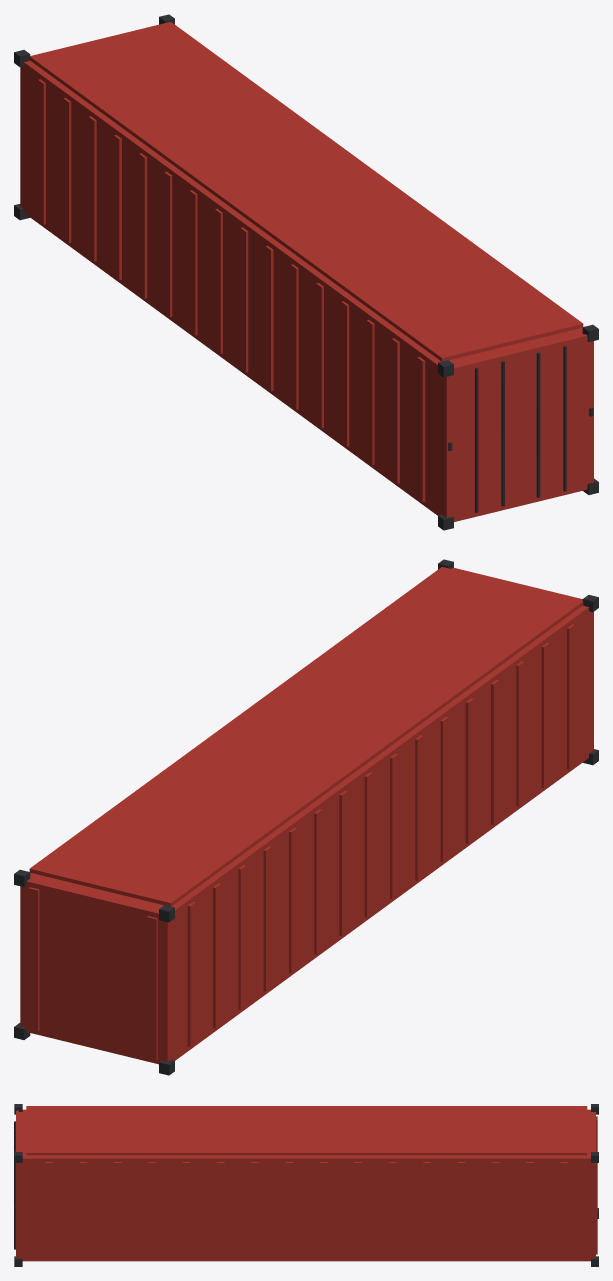
File: container_40ft.glb
The picture shows the model from 3 angles, top to bottom: view 1: azimuth 30°, elevation 25°; view 2: azimuth 150°, elevation 25°; view 3: azimuth 270°, elevation 25°; orthographic projection. The views are drawn at different scales.
Visible parts, largest first — view 1: Paint (×19), Container40ft; view 2: Paint (×20), Container40ft; view 3: Paint (×19), Container40ft.
Boxes of the visible parts, x1=… form: Paint (×19): x1=20, y1=22, x2=593, y2=521; Container40ft: x1=14, y1=14, x2=598, y2=530; Paint (×20): x1=20, y1=567, x2=592, y2=1064; Container40ft: x1=14, y1=559, x2=598, y2=1075; Paint (×19): x1=16, y1=1106, x2=595, y2=1261; Container40ft: x1=14, y1=1104, x2=598, y2=1266.
Bounding box in the file's own units: 2.57 × 2.6 × 12.33.
